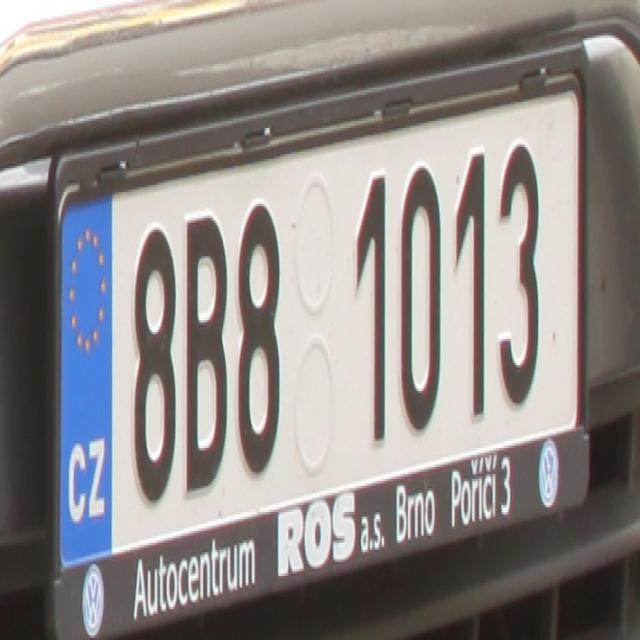0: (399, 161, 442, 429)
1: (454, 144, 487, 422), (356, 168, 386, 460)
3: (498, 144, 542, 400)
8: (132, 220, 176, 508), (236, 196, 280, 469)
B: (184, 215, 228, 496)
